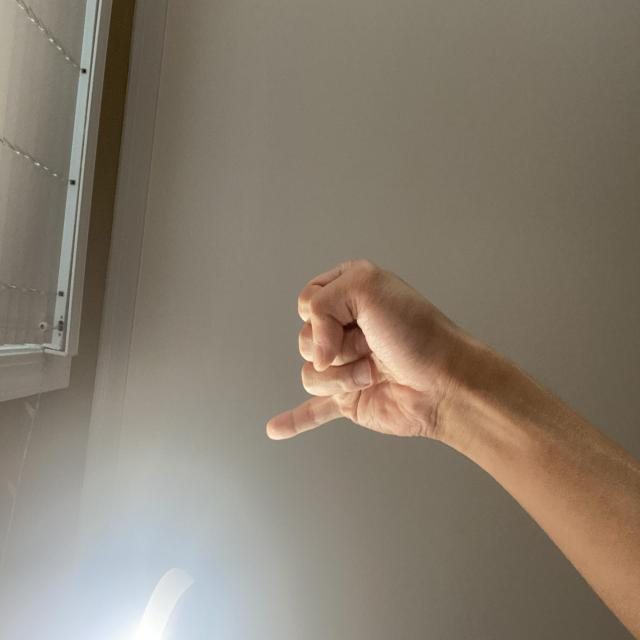I: (141, 346, 292, 630)
